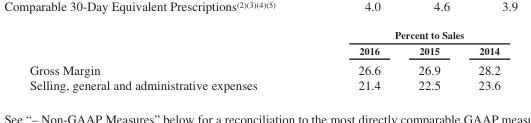table: (28, 28, 499, 92)
table column: (28, 28, 307, 92), (307, 28, 398, 92), (398, 28, 458, 92), (458, 28, 499, 92)
table column header: (28, 28, 499, 59)
table row: (28, 59, 499, 77), (28, 42, 499, 59), (28, 77, 499, 92), (28, 28, 499, 42)
table spanning cell: (307, 28, 499, 42)
